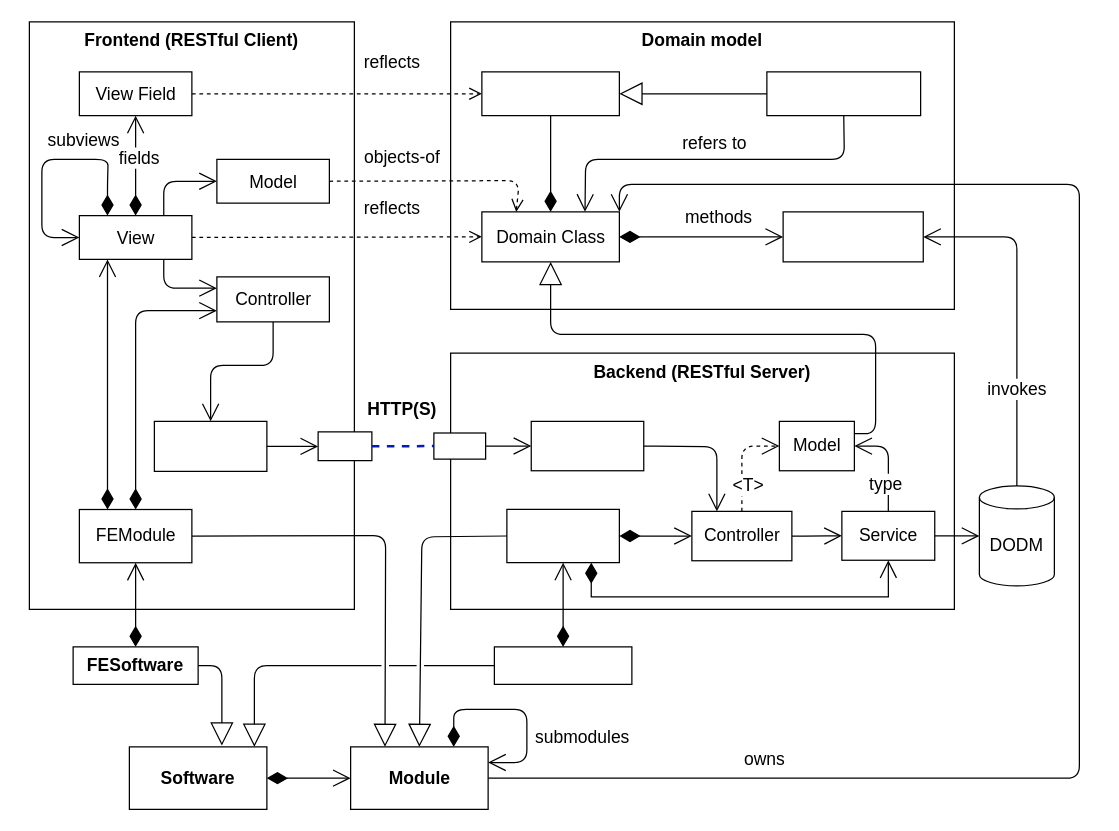
Some shapes in this 1119 by 831 pixel diagram are drawn without their labels. Each missing label, with the box of its shape:
Associative Field: (766, 71, 921, 116)
BE-RESTful API: (530, 420, 644, 471)
BEModule: (506, 508, 619, 563)
BESoftware: (493, 646, 632, 684)
Domain Field: (481, 71, 619, 116)
Domain Method: (782, 211, 923, 262)
FE-RESTful API: (153, 420, 267, 471)
